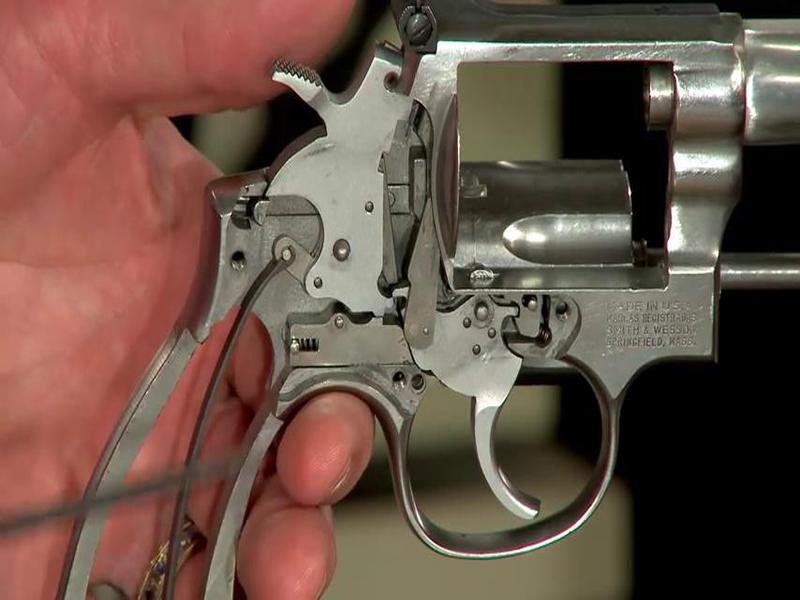Revolver: (87, 21, 800, 514)
